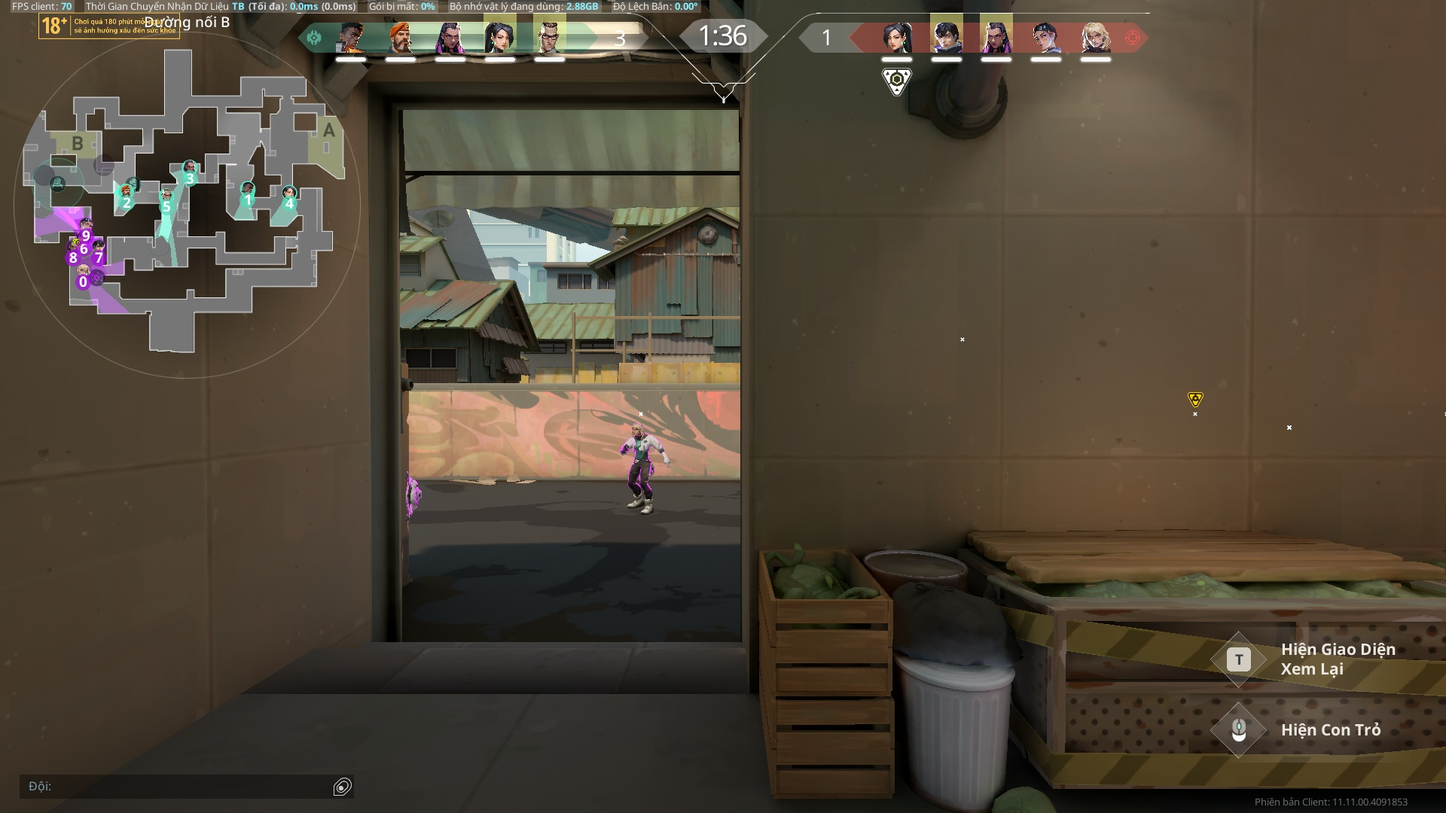body: (627, 434, 654, 461)
head: (630, 423, 643, 437)
